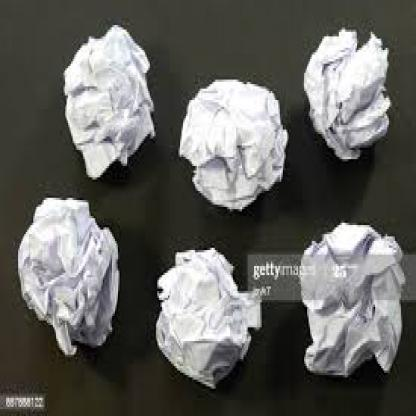paper: (296, 218, 402, 378), (17, 193, 118, 357), (153, 243, 260, 391), (177, 75, 286, 211), (60, 23, 156, 175), (301, 25, 389, 159)
